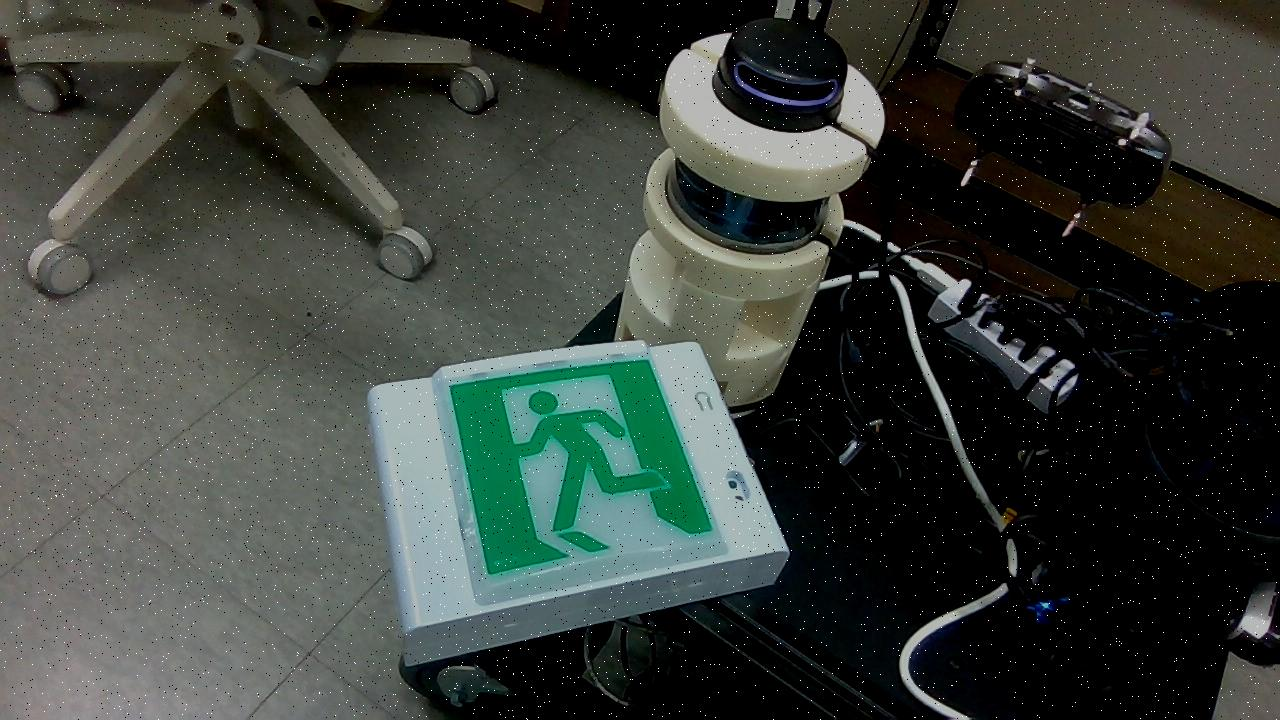emergency_exit: (366, 337, 791, 669)
